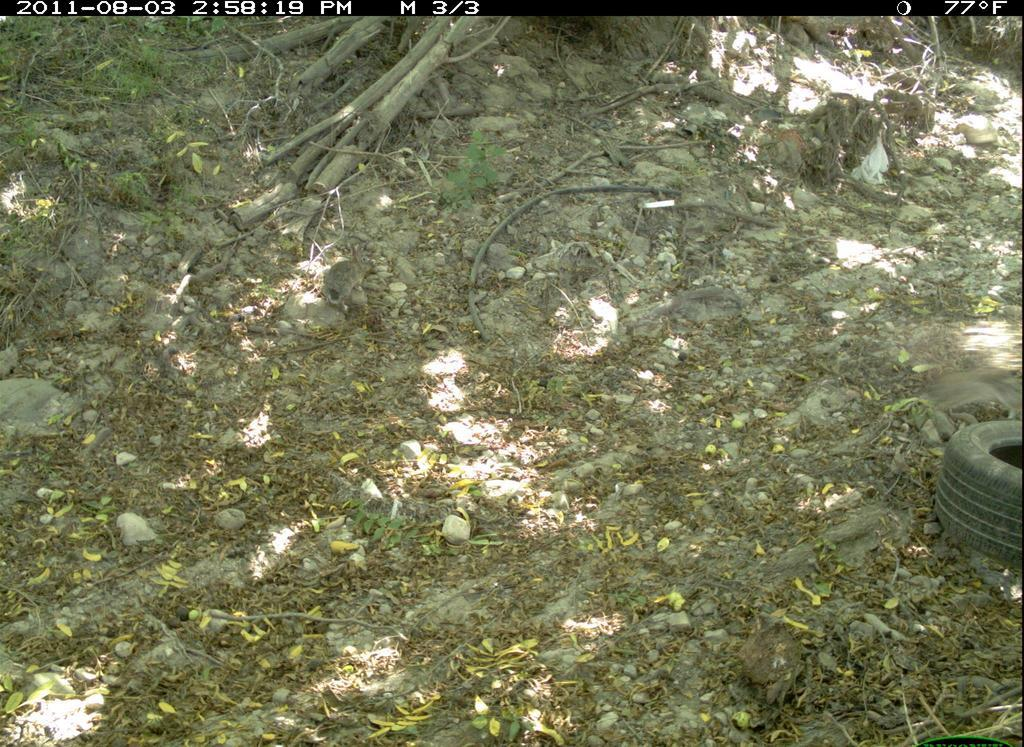rabbit: (319, 235, 383, 315)
